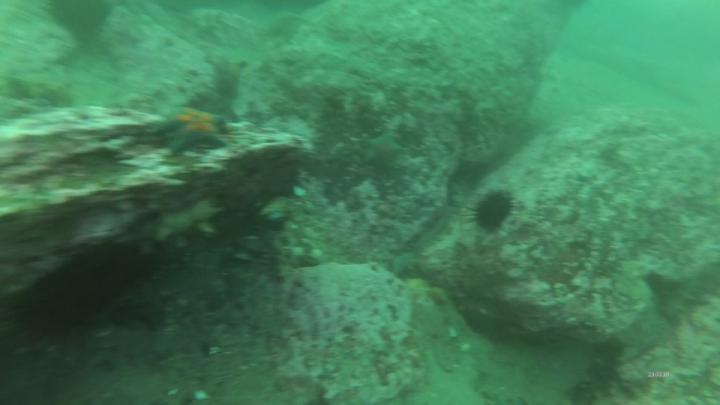echinus: (29, 283, 98, 339), (53, 1, 109, 33), (474, 195, 512, 229)
starfish: (165, 107, 225, 152), (364, 134, 404, 172)
